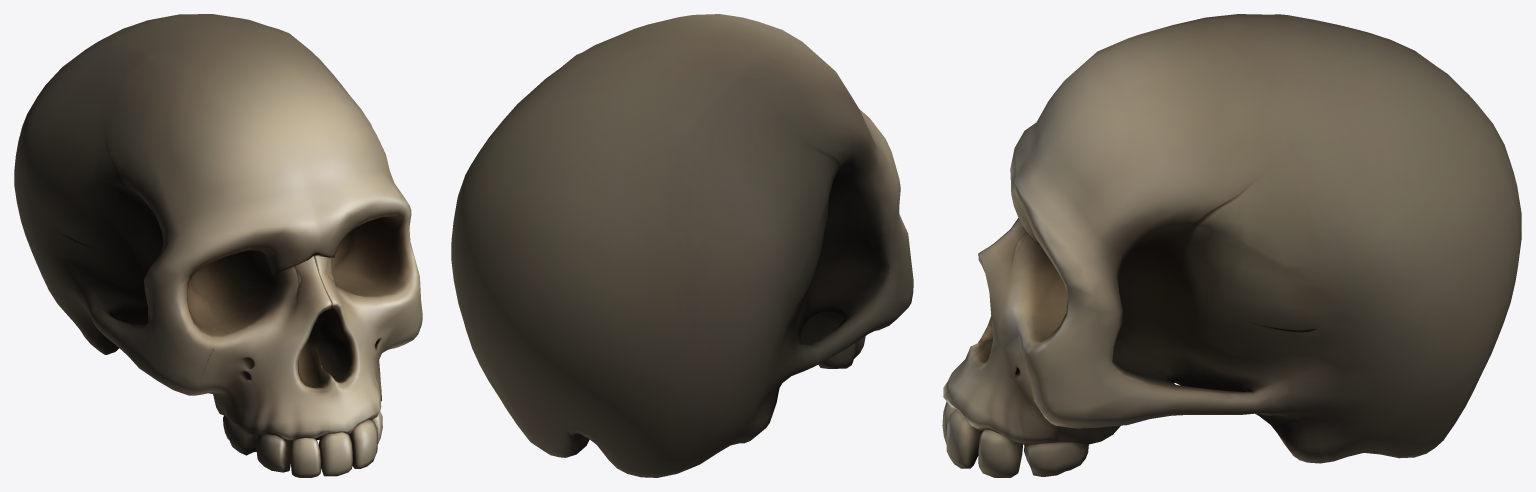
File: skull.glb
The picture shows the model from 3 angles, left to right: view 1: azimuth 30°, elevation 25°; view 2: azimuth 150°, elevation 25°; view 3: azimuth 270°, elevation 25°; orthographic projection. The views are drawn at different scales.
Parts seen in each view (by area): view 1: cartoon skull 3d model; view 2: cartoon skull 3d model; view 3: cartoon skull 3d model.
Boxes of the visible parts, x1,y1,x2,y2 form: cartoon skull 3d model: (14, 14, 422, 477); cartoon skull 3d model: (451, 14, 913, 477); cartoon skull 3d model: (942, 14, 1521, 477).
Size of the model in its own units: 0.6831 by 0.7896 by 0.9995.
Materials: 1 (1 with a texture image).
